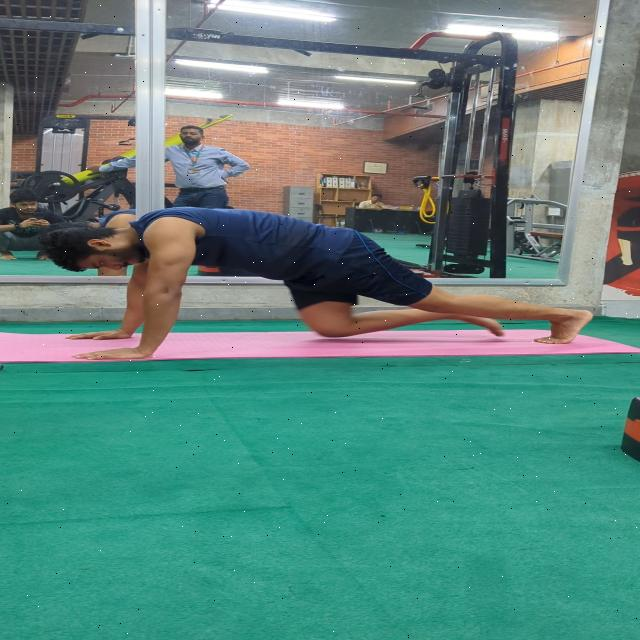Normal_MountainClimbers: (26, 188, 604, 376)
